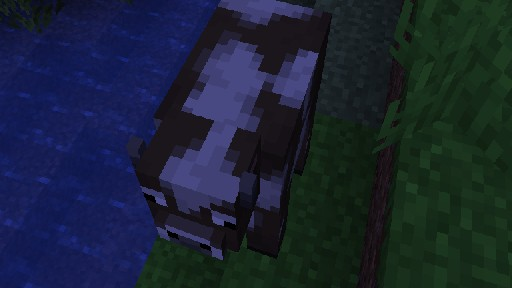cow: (125, 0, 332, 260)
